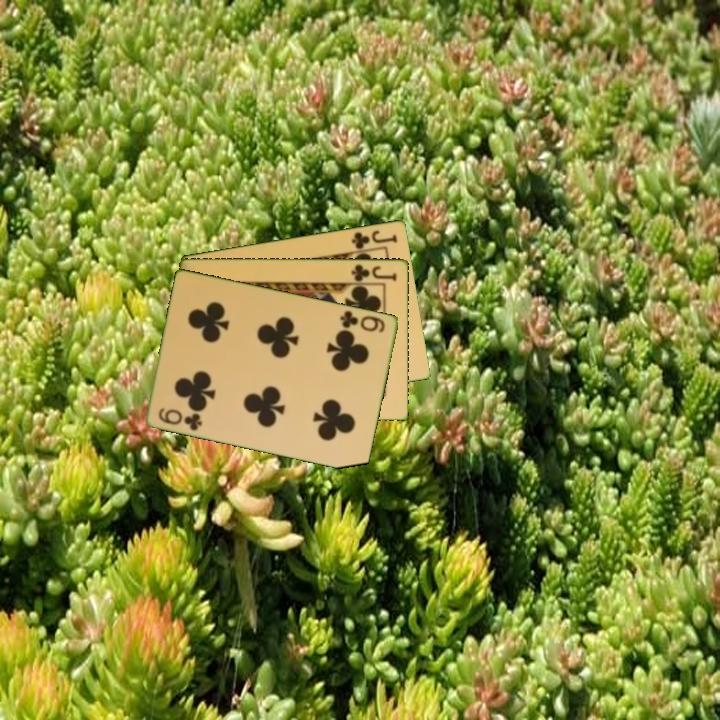6c: (155, 404, 206, 433), (336, 307, 388, 335)
Jc: (348, 226, 400, 252), (348, 261, 400, 284)
